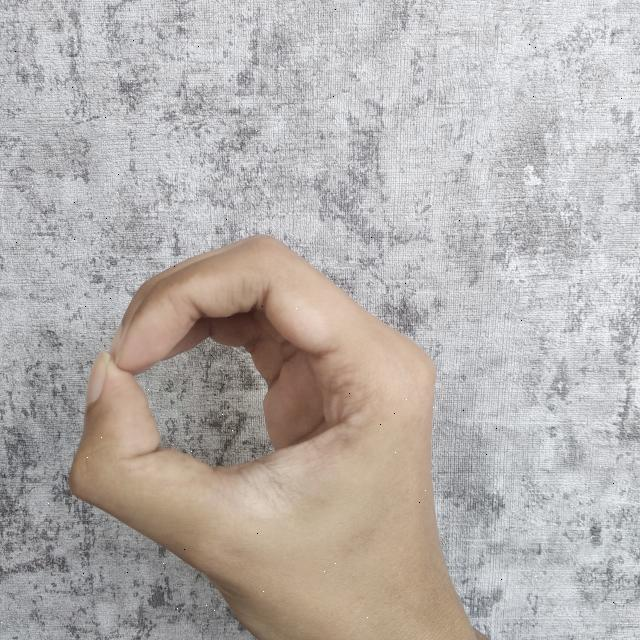O: (63, 222, 487, 640)
